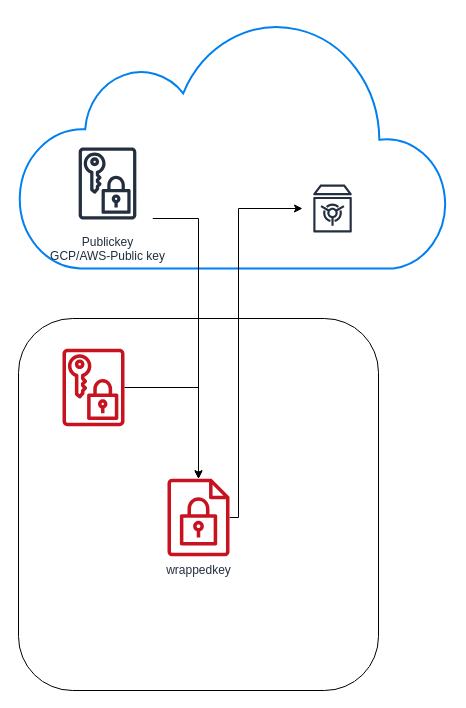
Image size: 466x708. Some labels were removed from this diagram. Here are the shapes that lost their labels. From the top down, the centre of each, then its label:
the point at 332,208: GOOGLE/AWS KEYSTORAGE
the point at 93,387: AES generated key
